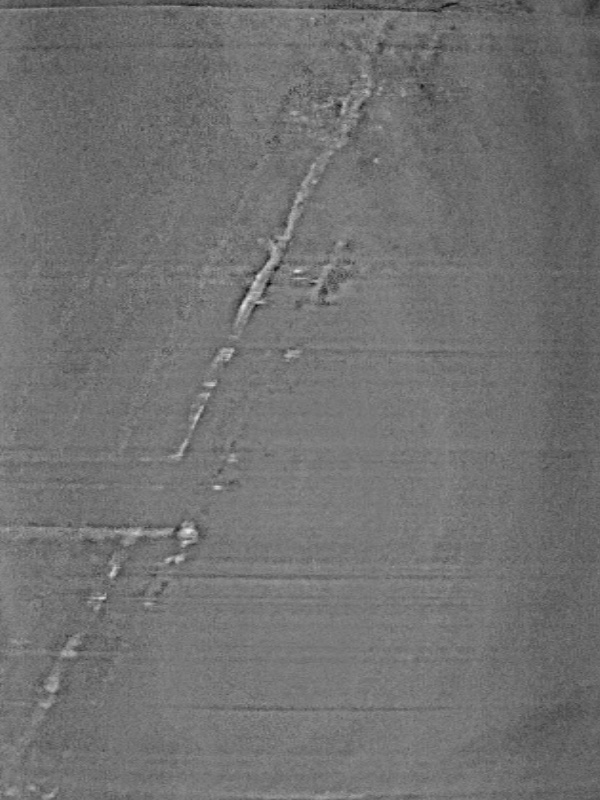splice_vulcanized: (2, 9, 454, 800)
